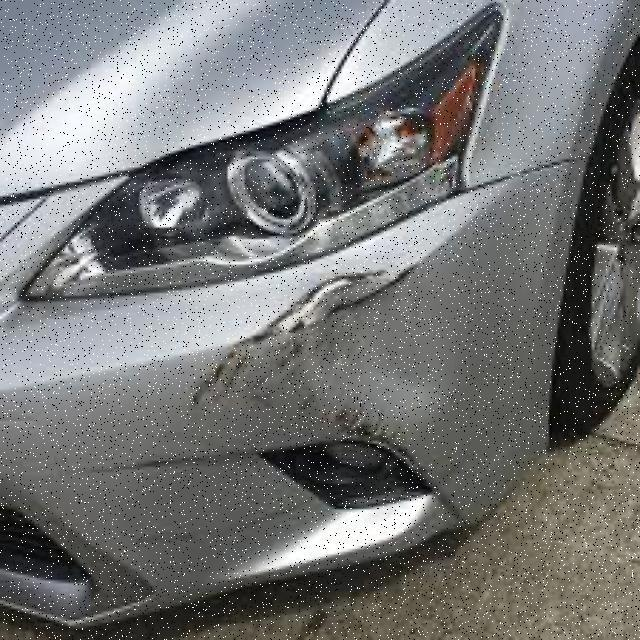front-bumper-dent: (0, 227, 586, 588)
